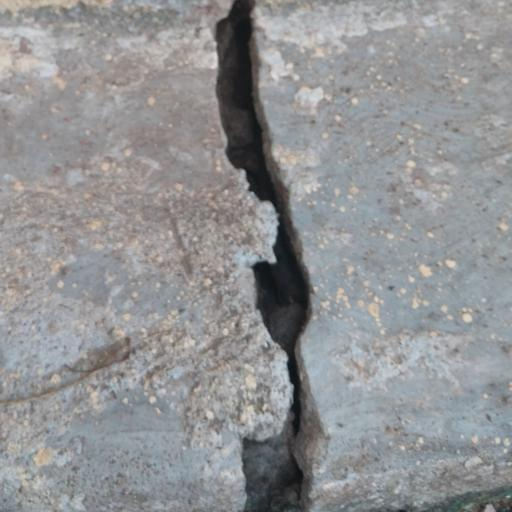major_crack: (197, 0, 339, 512)
